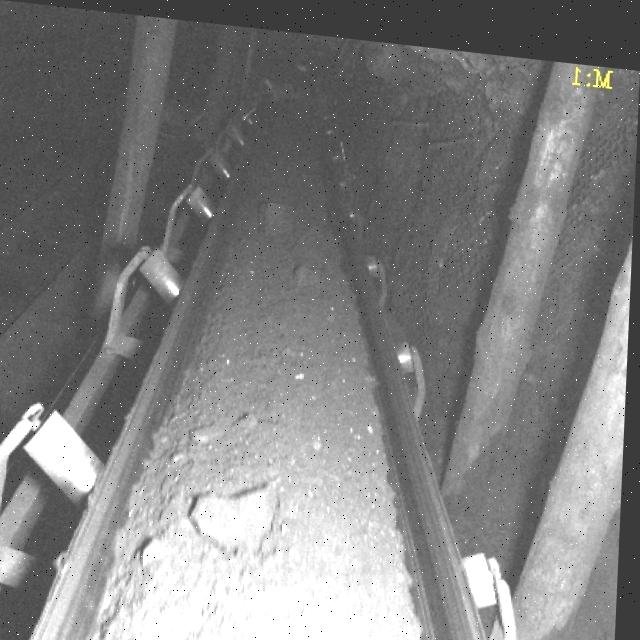large_sized_coal: (197, 471, 283, 545), (258, 192, 296, 237)
